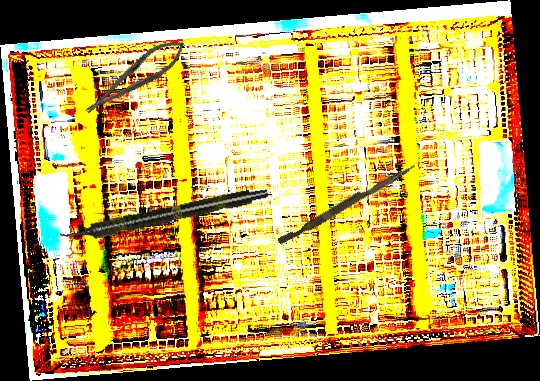Handpiece: (58, 184, 270, 246)
Needle Holder: (78, 30, 192, 124)
Pusher: (277, 158, 417, 249)
